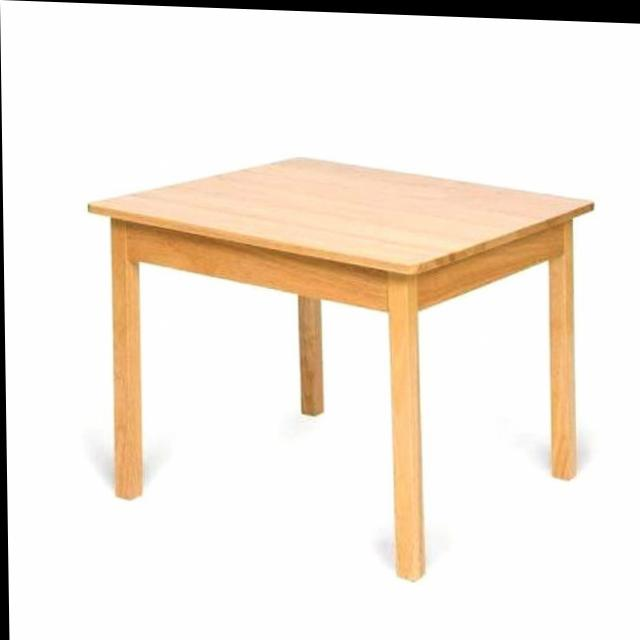Table: (80, 137, 620, 589)
